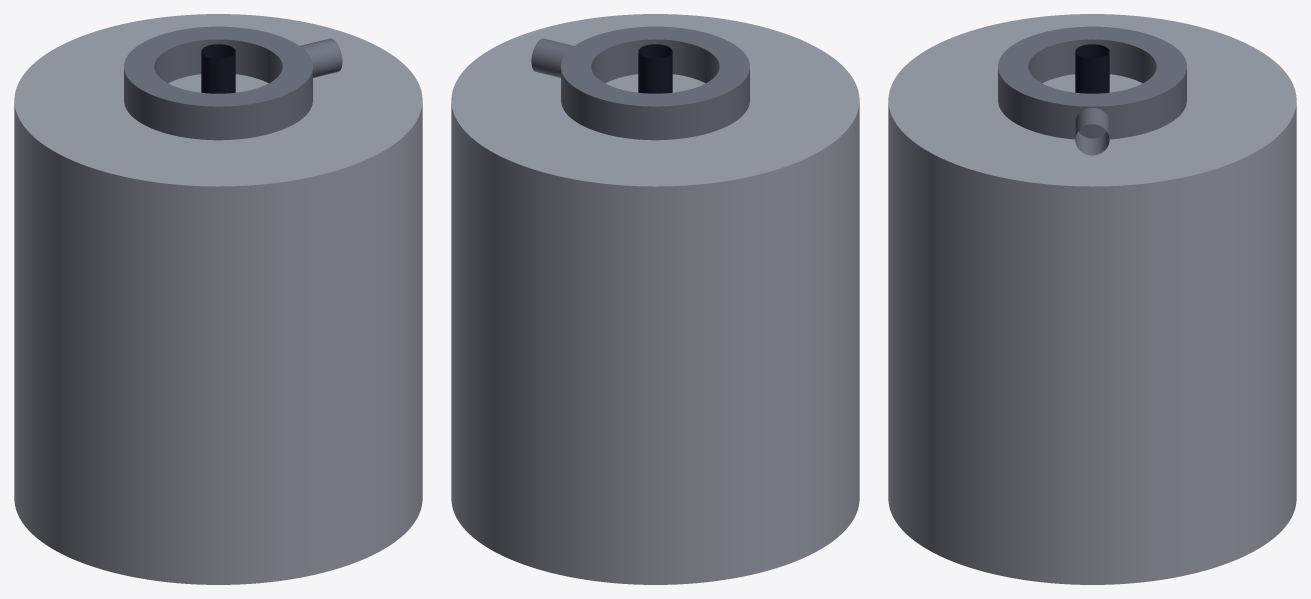
3 renders of one model, left to right at view 1: azimuth 30°, elevation 25°; view 2: azimuth 150°, elevation 25°; view 3: azimuth 270°, elevation 25°, orthographic.
Parts seen in each view (by area): view 1: Jacket sheet, Inlet plenum (jacket sheet), Collector shell; view 2: Jacket sheet, Inlet plenum (jacket sheet), Collector shell; view 3: Jacket sheet, Inlet plenum (jacket sheet), Collector shell.
Part boxes in pixels (bbox=[...]): Jacket sheet: bbox=[14, 14, 422, 584]; Inlet plenum (jacket sheet): bbox=[124, 26, 342, 140]; Collector shell: bbox=[201, 44, 235, 93]; Jacket sheet: bbox=[451, 14, 859, 584]; Inlet plenum (jacket sheet): bbox=[531, 26, 749, 140]; Collector shell: bbox=[638, 44, 672, 93]; Jacket sheet: bbox=[888, 14, 1296, 584]; Inlet plenum (jacket sheet): bbox=[998, 26, 1186, 155]; Collector shell: bbox=[1075, 44, 1109, 93].
Bounding box in the file's own units: 1.21 × 1.46 × 1.21.
